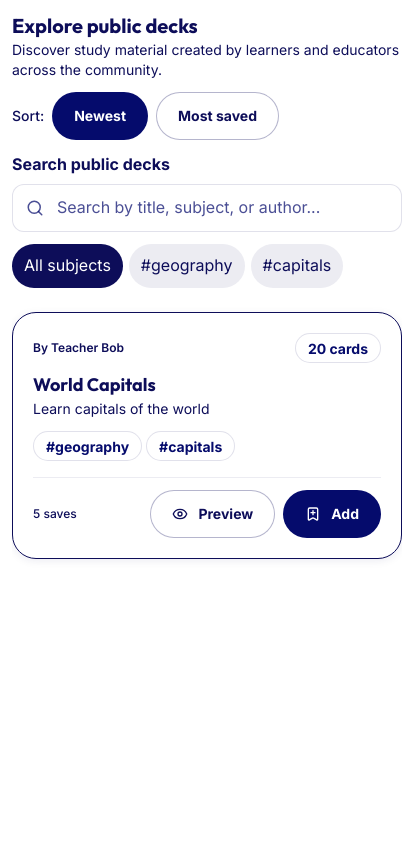
Scenario: PublicDecksTab › shows empty state when search finds no matches
Expected: the heading "World Capitals" is shown, [33,373,156,396]
Step 1. Type "Quantum Physics" into the field labelled "Search public decks" → (207, 208), box [12,184,402,232]
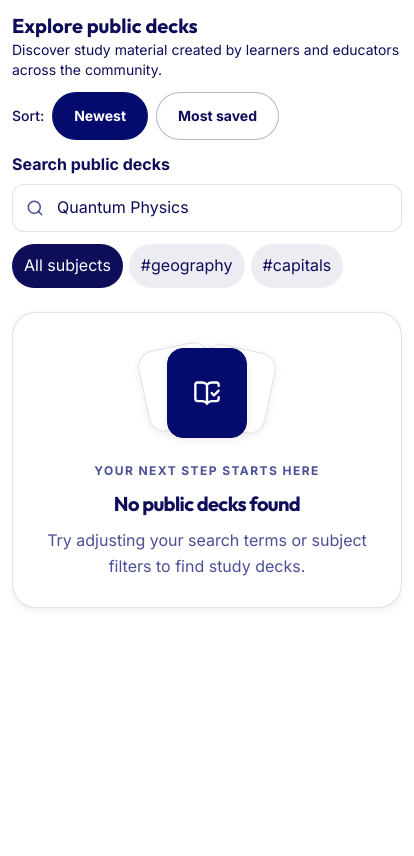
Expected: the heading "No public decks found" is shown, [114,492,300,516]
